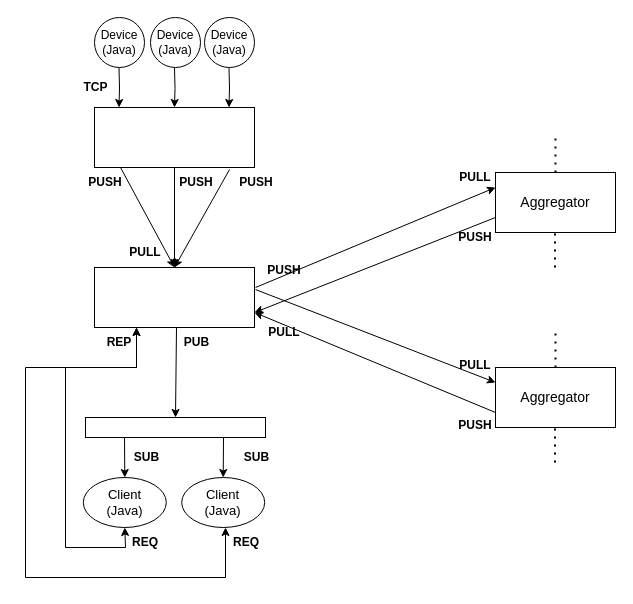
Some shapes in this 633 by 604 pixel diagram are drawn without their labels. Here are the shapes that lost their labels. From the top down, the box of each, then its label:
(94, 106, 254, 168): Colector (Erlang)
(94, 266, 254, 328): Aggregator (Java)
